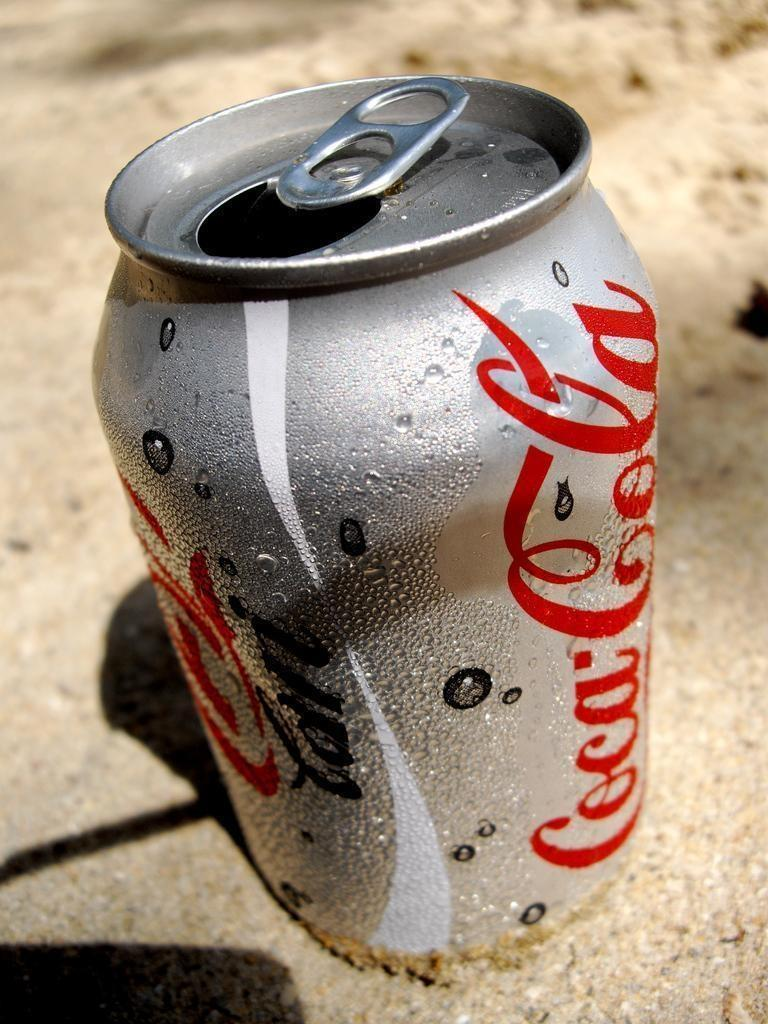tin can: (91, 77, 660, 960)
